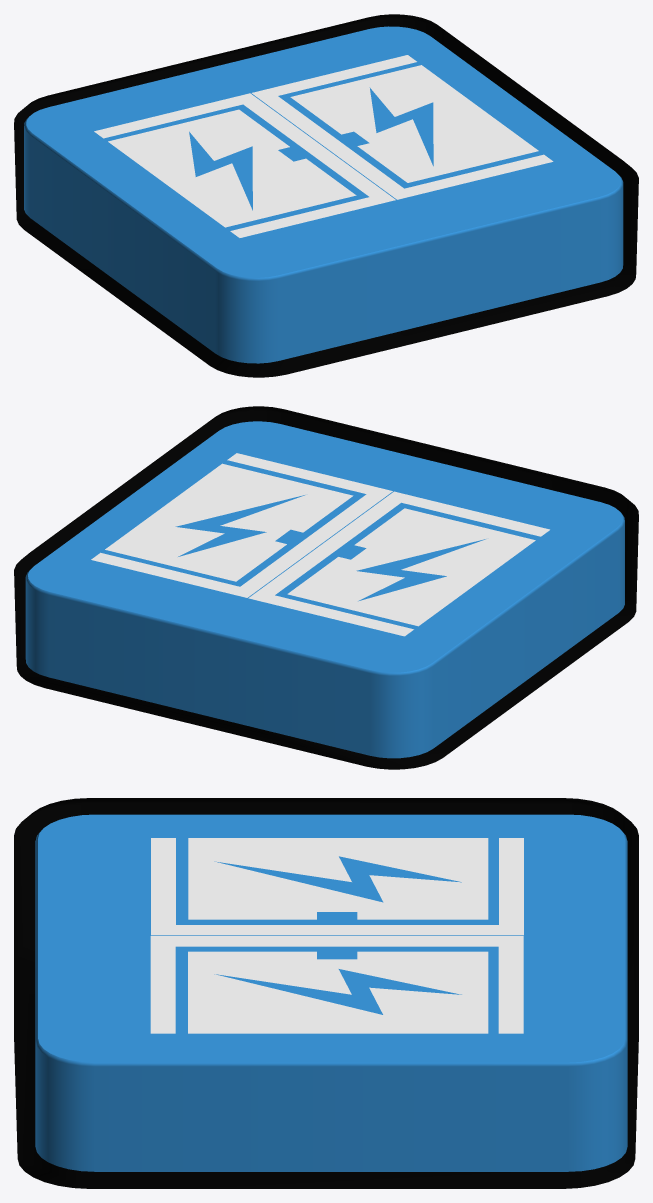
File: PDUz.obj
3 views of the same model, one above another, from view 1: azimuth 30°, elevation 25°; view 2: azimuth 150°, elevation 25°; view 3: azimuth 270°, elevation 25° (orthographic). The views are drawn at different scales.
Parts seen in each view (by area): view 1: PDUz; view 2: PDUz; view 3: PDUz.
Boxes of the visible parts, left/top/right/bottom form: PDUz: left=14, top=14, right=638, bottom=377; PDUz: left=14, top=406, right=638, bottom=769; PDUz: left=14, top=798, right=638, bottom=1188.
Bounding box in the file's own units: 1.06 × 0.2484 × 1.06.
